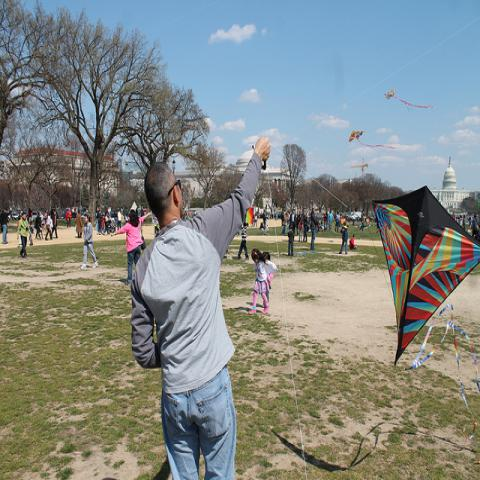car: (108, 212, 118, 221), (10, 213, 18, 220), (80, 212, 88, 219), (32, 211, 38, 219)
